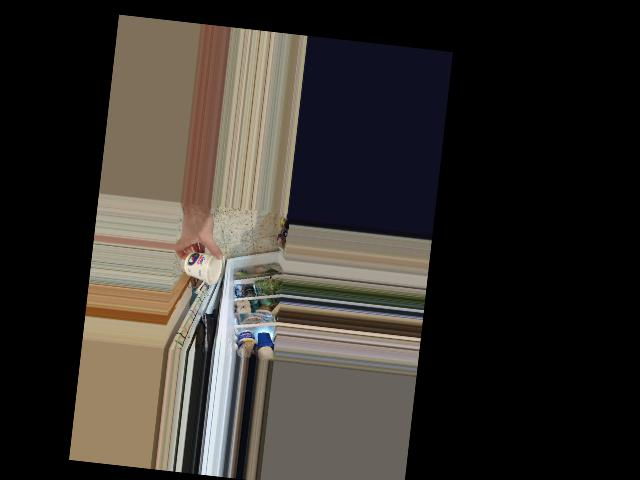cotage: (183, 247, 223, 285)
